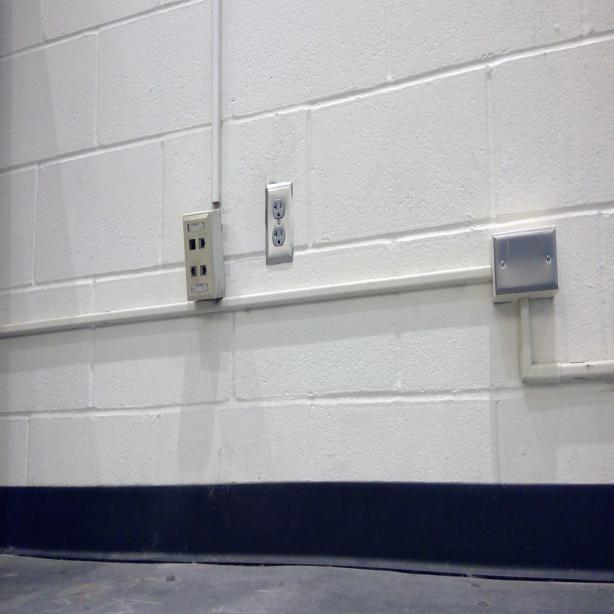typeb: (272, 196, 286, 218), (274, 227, 286, 245)
